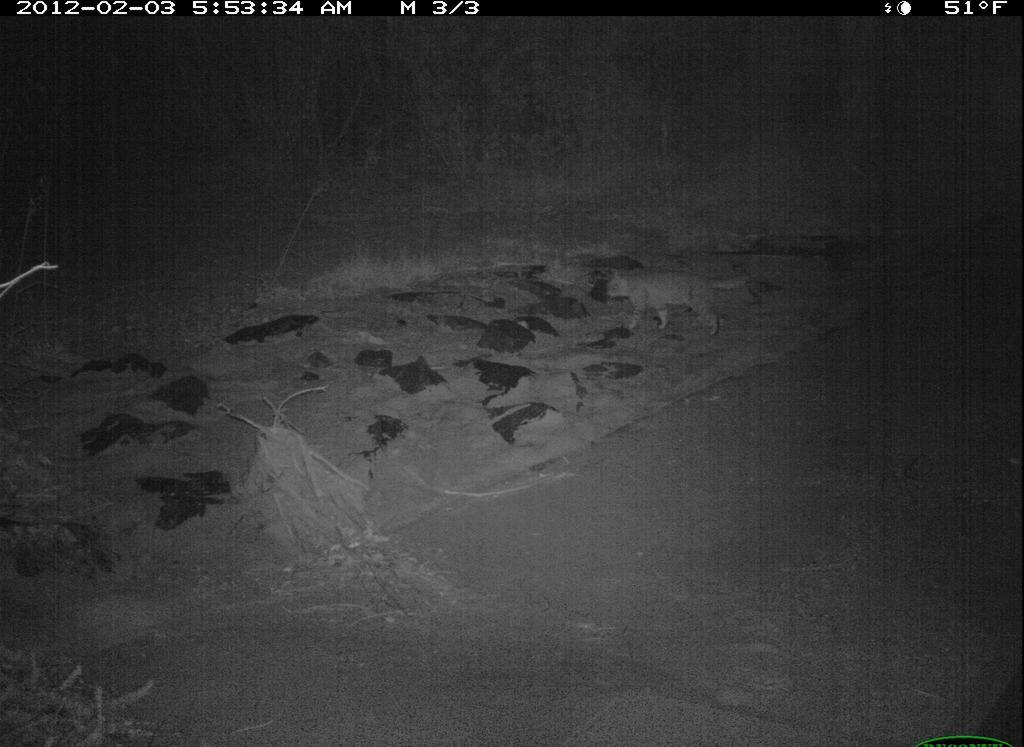cat: (602, 259, 752, 345)
